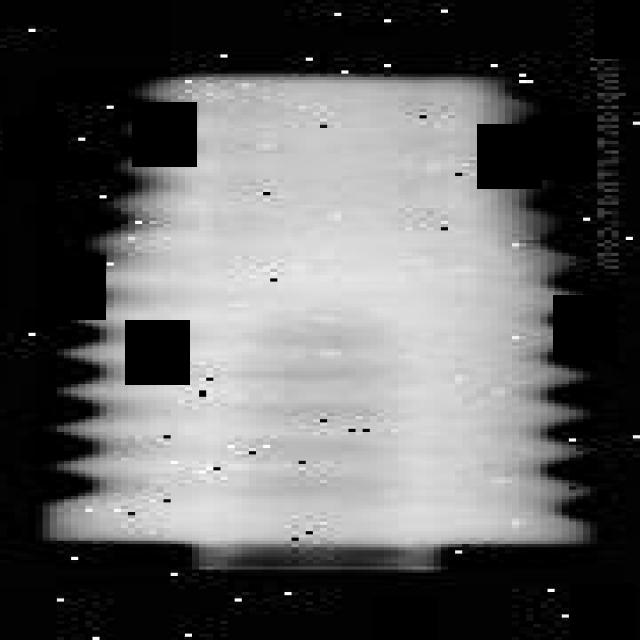Retained root: (36, 70, 597, 566)
